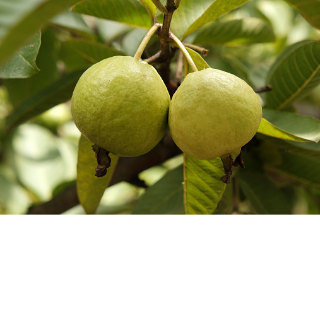oi: (70, 52, 174, 158), (167, 52, 266, 162)
